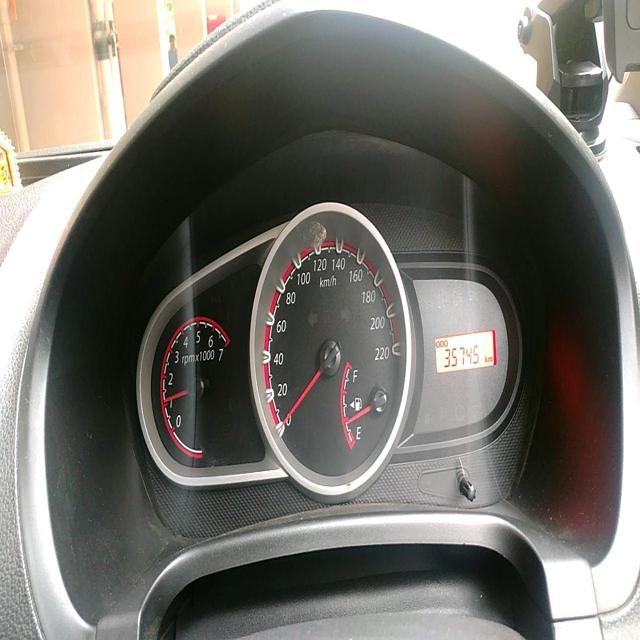odometer: (444, 344, 479, 369)
